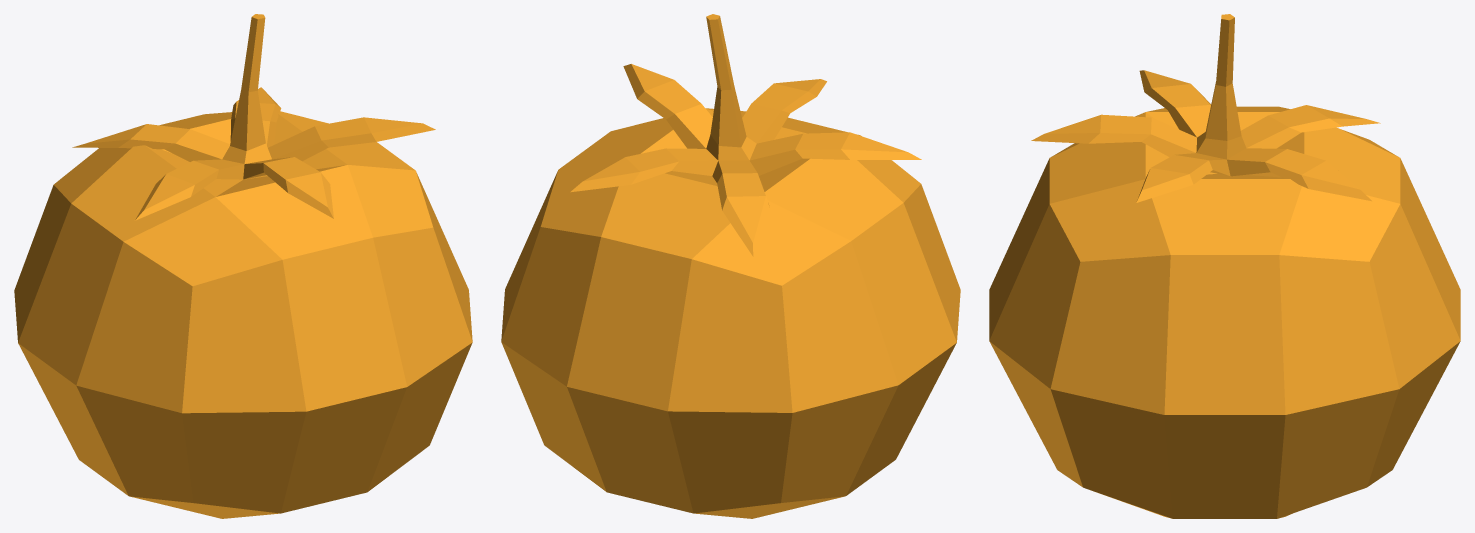
The model's file is SM_Tomato_Grilled.fbx.
3 views of the same model, side by side, from view 1: azimuth 30°, elevation 25°; view 2: azimuth 150°, elevation 25°; view 3: azimuth 270°, elevation 25° (orthographic). The views are drawn at different scales.
Parts seen in each view (by area): view 1: tomato-grilled; view 2: tomato-grilled; view 3: tomato-grilled.
Part boxes in pixels (x1=…): tomato-grilled: x1=14, y1=14, x2=472, y2=518; tomato-grilled: x1=501, y1=14, x2=960, y2=518; tomato-grilled: x1=989, y1=14, x2=1460, y2=518.
Bounding box in the file's own units: 0.1036 × 0.1171 × 0.1036.
